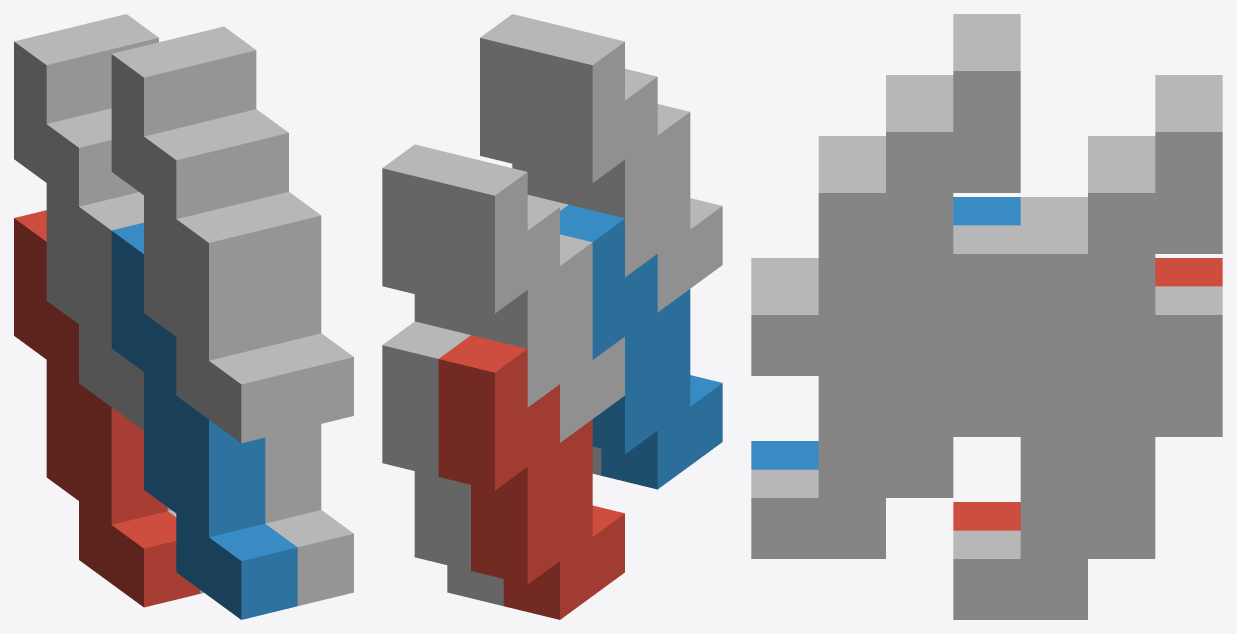
Rendered from tiling.obj.
The picture shows the model from 3 angles, left to right: view 1: azimuth 30°, elevation 25°; view 2: azimuth 150°, elevation 25°; view 3: azimuth 270°, elevation 25°; orthographic projection. The views are drawn at different scales.
Visible parts, largest first — view 1: copy_1_domain_4, copy_1_domain_2, copy_1_domain_3, copy_1_domain_1, copy_1_domain_8, copy_1_domain_6, copy_1_domain_7; view 2: copy_1_domain_1, copy_1_domain_4, copy_1_domain_3, copy_1_domain_2, copy_1_domain_5, copy_1_domain_7, copy_1_domain_8, copy_1_domain_6; view 3: copy_1_domain_8, copy_1_domain_7, copy_1_domain_5, copy_1_domain_6, copy_1_domain_4, copy_1_domain_3, copy_1_domain_1, copy_1_domain_2.
Boxes of the visible parts, x1,y1,x2,y2 form: copy_1_domain_4: (111,40,297,443); copy_1_domain_2: (111,222,297,619); copy_1_domain_3: (14,28,143,430); copy_1_domain_1: (14,210,200,607); copy_1_domain_8: (168,26,353,429); copy_1_domain_6: (265,424,353,605); copy_1_domain_7: (70,14,158,198); copy_1_domain_1: (438,335,624,619); copy_1_domain_4: (536,28,722,311); copy_1_domain_3: (438,158,624,442); copy_1_domain_2: (560,205,722,489); copy_1_domain_5: (382,321,503,605); copy_1_domain_7: (382,144,470,334); copy_1_domain_8: (480,14,568,204); copy_1_domain_6: (527,195,601,475); copy_1_domain_8: (751,42,1020,375); copy_1_domain_7: (953,103,1222,436); copy_1_domain_5: (953,286,1222,619); copy_1_domain_6: (751,225,1020,558); copy_1_domain_4: (751,14,1020,286); copy_1_domain_3: (1020,75,1222,225); copy_1_domain_1: (953,258,1222,530); copy_1_domain_2: (751,197,1020,469).
Size of the model in its own units: 2 by 9 by 7.
